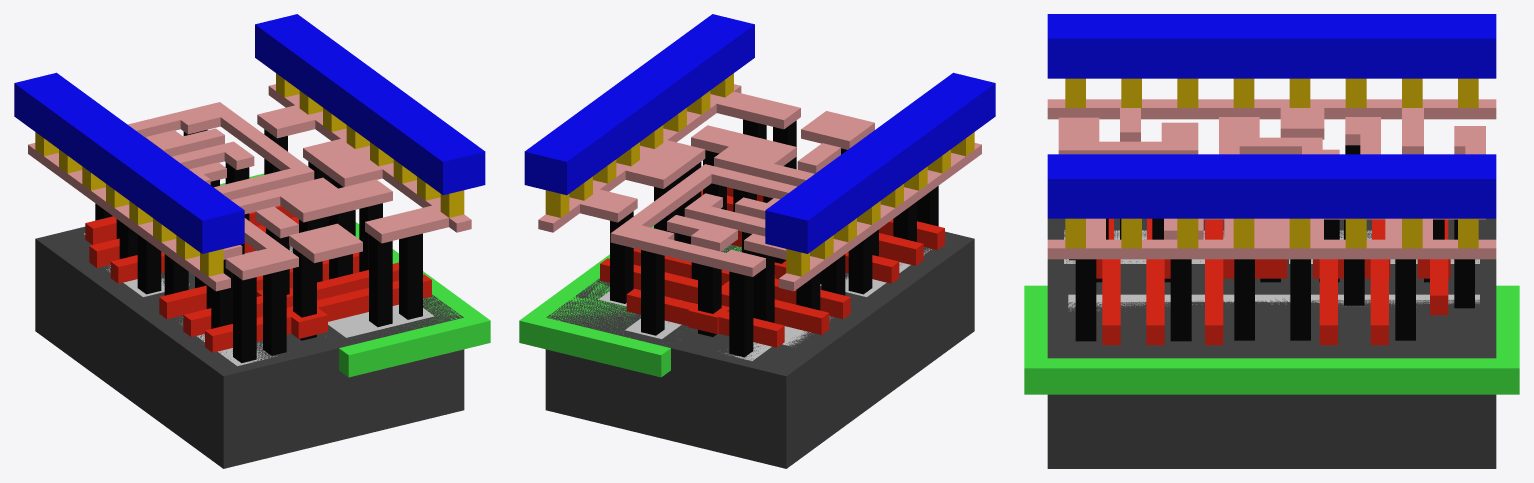
Rendered from sky130_fd_sc_hd__o21ba_2.obj.
3 views of the same model, side by side, from view 1: azimuth 30°, elevation 25°; view 2: azimuth 150°, elevation 25°; view 3: azimuth 270°, elevation 25° (orthographic). The views are drawn at different scales.
Parts seen in each view (by area): view 1: subs, metal1, li, licon, poly, nwell, mcon, tap, diff; view 2: subs, metal1, li, licon, poly, nwell, mcon, diff, tap; view 3: metal1, subs, li, nwell, licon, poly, mcon, tap, diff.
Boxes of the visible parts, x1=… form: subs: x1=35, y1=226, x2=464, y2=468; metal1: x1=14, y1=14, x2=485, y2=253; li: x1=28, y1=84, x2=471, y2=291; licon: x1=95, y1=129, x2=422, y2=363; poly: x1=85, y1=205, x2=431, y2=352; nwell: x1=220, y1=173, x2=490, y2=377; mcon: x1=35, y1=73, x2=464, y2=276; tap: x1=244, y1=245, x2=434, y2=337; diff: x1=84, y1=233, x2=277, y2=365; subs: x1=545, y1=231, x2=974, y2=468; metal1: x1=524, y1=14, x2=995, y2=253; li: x1=538, y1=84, x2=981, y2=291; licon: x1=610, y1=119, x2=938, y2=357; poly: x1=600, y1=187, x2=944, y2=347; nwell: x1=519, y1=226, x2=741, y2=377; mcon: x1=545, y1=73, x2=974, y2=276; diff: x1=724, y1=247, x2=931, y2=360; tap: x1=598, y1=250, x2=723, y2=338; metal1: x1=1047, y1=14, x2=1496, y2=218; subs: x1=1047, y1=218, x2=1496, y2=468; li: x1=1047, y1=99, x2=1496, y2=259; nwell: x1=1024, y1=285, x2=1519, y2=394; licon: x1=1069, y1=145, x2=1474, y2=341; poly: x1=1096, y1=218, x2=1450, y2=345; mcon: x1=1065, y1=78, x2=1478, y2=248; tap: x1=1068, y1=294, x2=1479, y2=311; diff: x1=1064, y1=230, x2=1479, y2=263.
Bounding box in the file's own units: 3.2 × 2.74 × 4.06.
